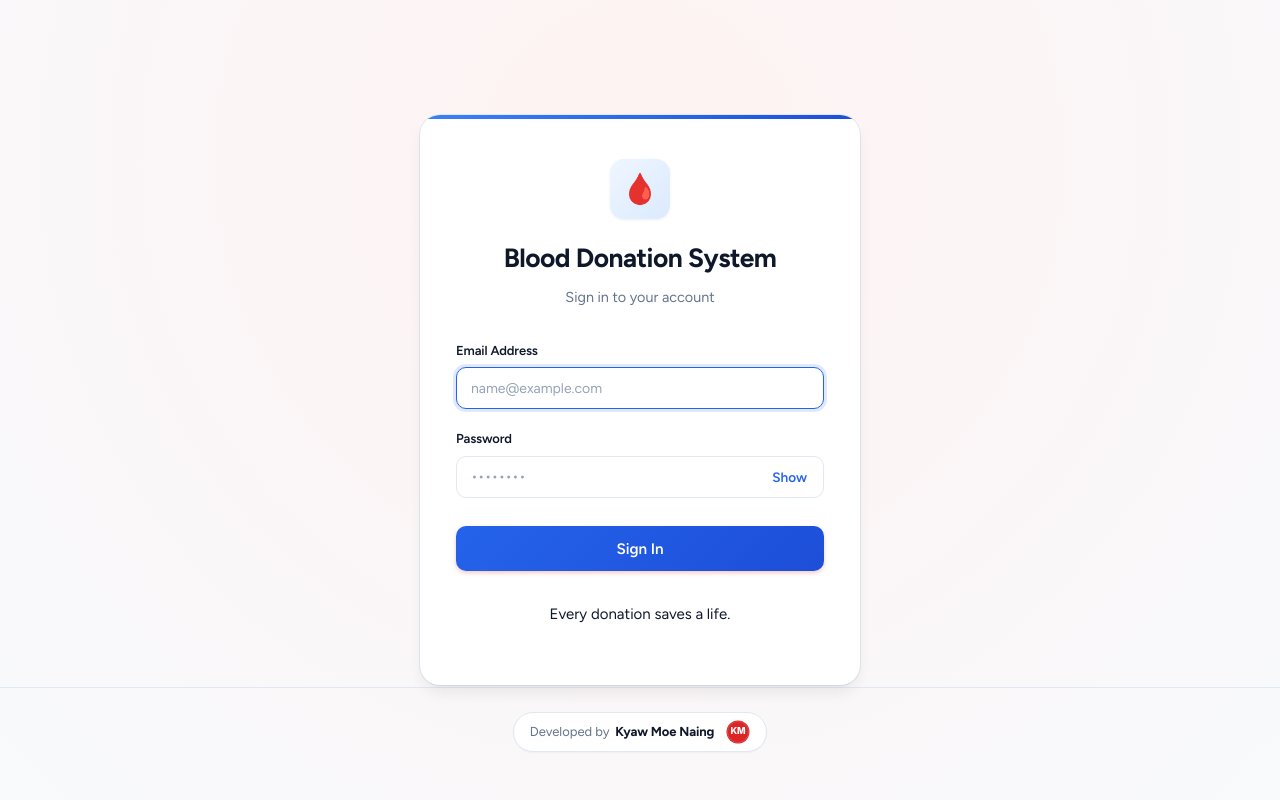
Login Page › prevents duplicate submissions while request is in flight
Type "donor@example.com" into the field labelled "Email Address" at point(640, 388), box [456,367,824,409]
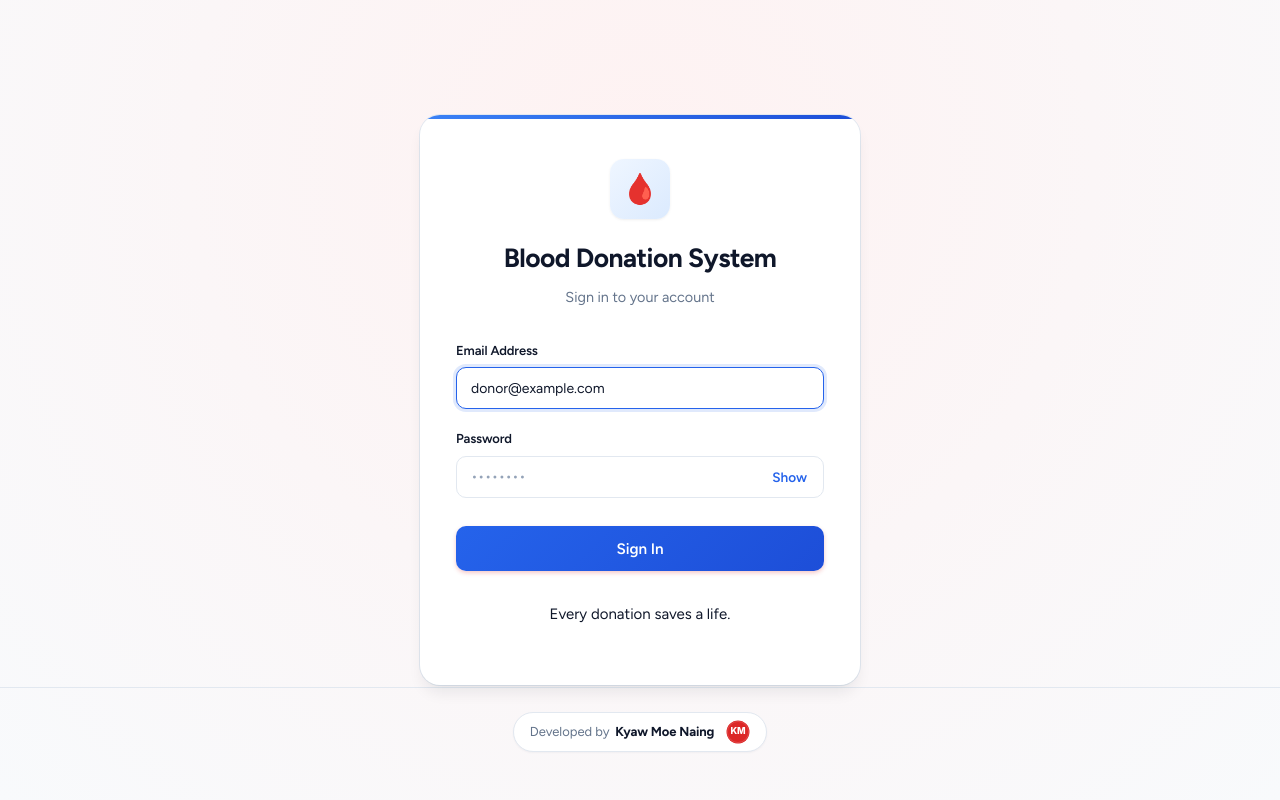
Type "SecurePass123" into the password field labelled "Password" at point(640, 477), box [456,456,824,498]
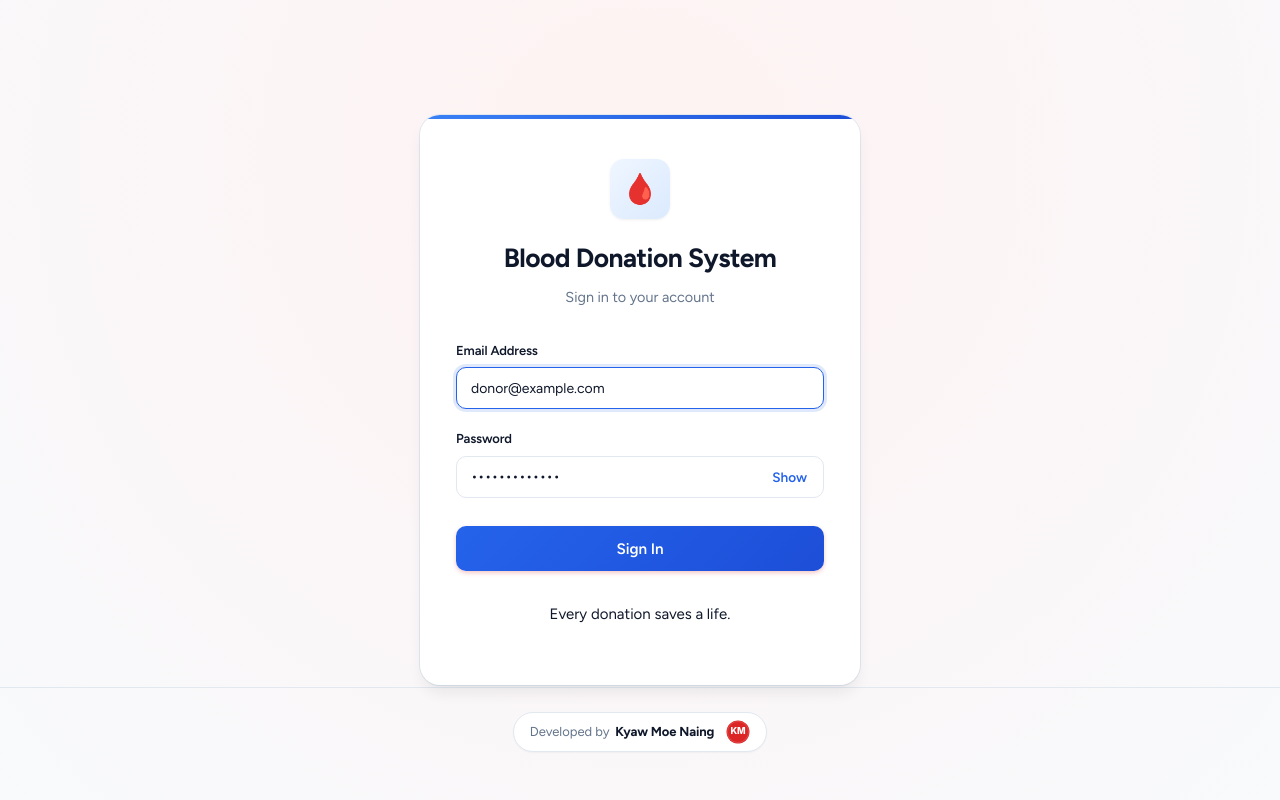
Click the button "Sign In" at point(640, 549), box [456,526,824,571]
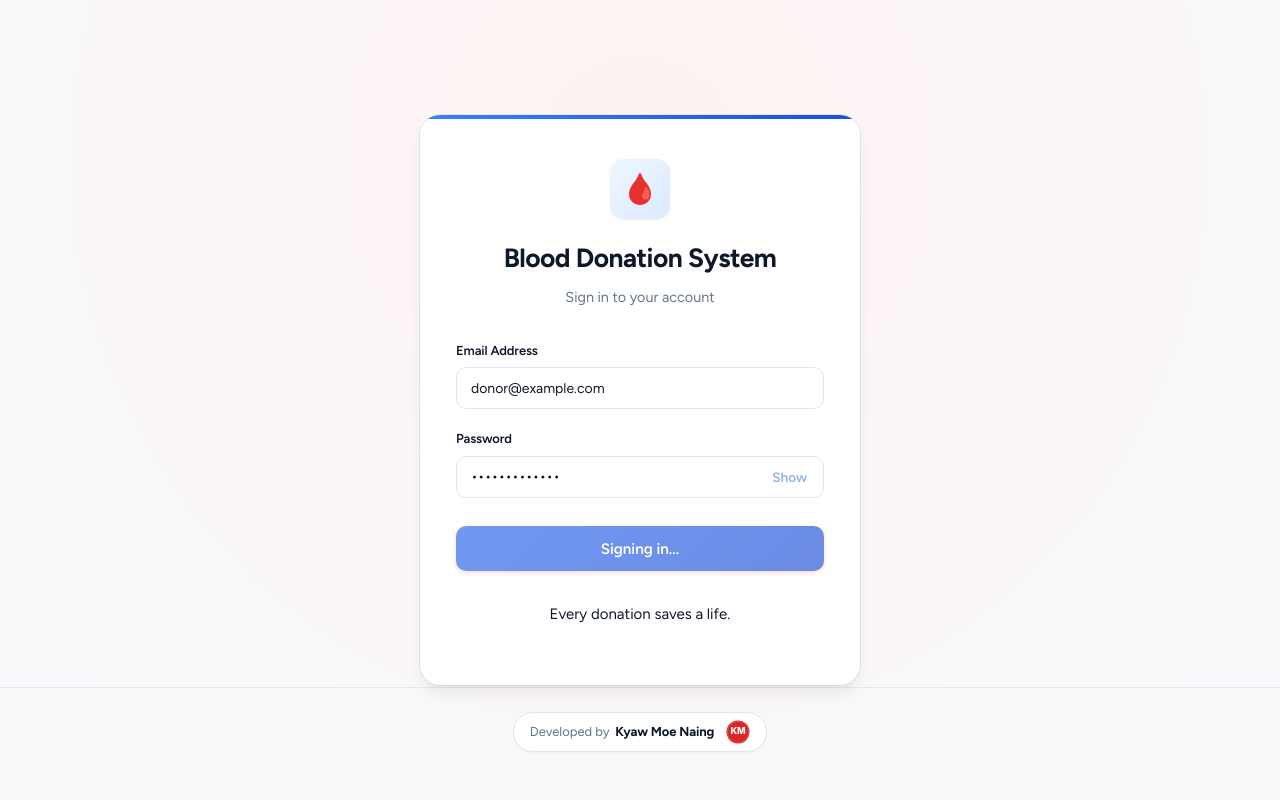
Now the button named "sign in" is disabled
Now the button named "sign in" reads "Signing in..."
# Attempt second click
Click the button named "sign in" at point(640, 549), box [456,526,824,571]
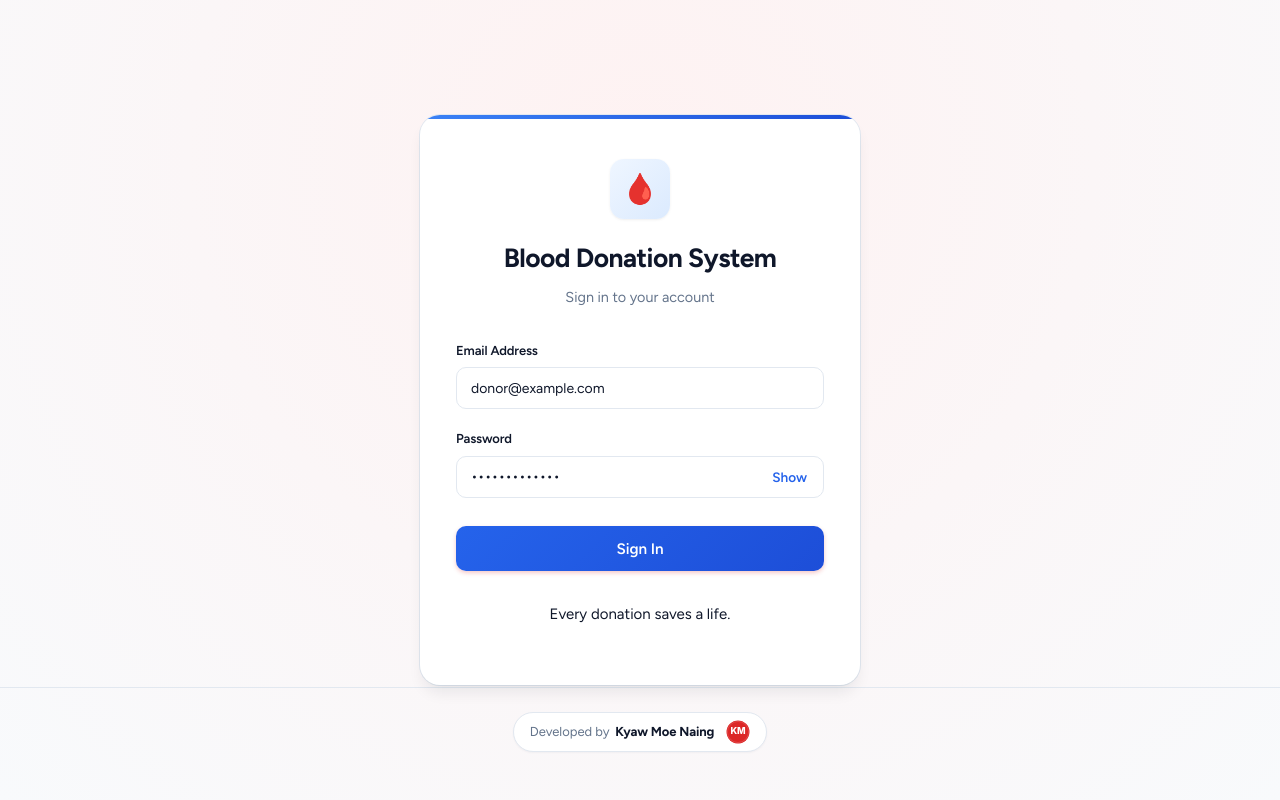
Now the button "Sign In" is enabled, box [456,526,824,571]
